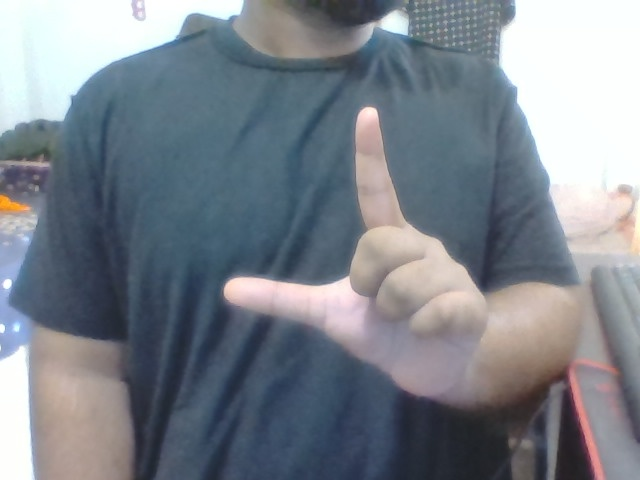L: (213, 98, 507, 419)
